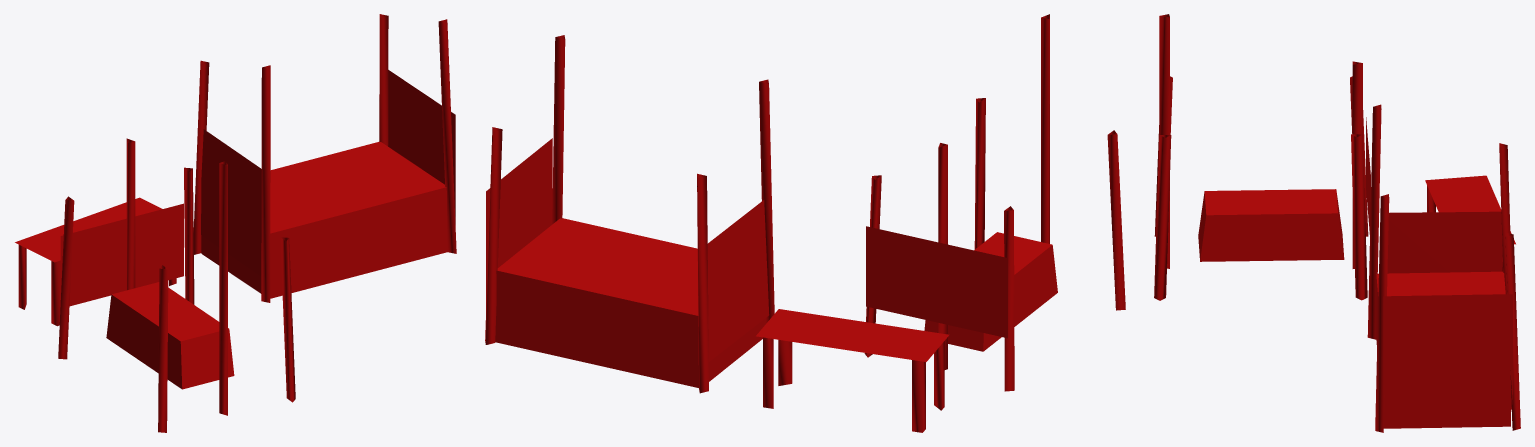
Rendered from n_marketstand02_lod0.glb.
3 views of the same model, side by side, from view 1: azimuth 30°, elevation 25°; view 2: azimuth 150°, elevation 25°; view 3: azimuth 270°, elevation 25° (orthographic). The views are drawn at different scales.
Parts seen in each view (by area): view 1: MODEL_n_marketstand02_lod0; view 2: MODEL_n_marketstand02_lod0; view 3: MODEL_n_marketstand02_lod0.
Boxes of the visible parts, bbox=[...] form: MODEL_n_marketstand02_lod0: bbox=[15, 14, 456, 432]; MODEL_n_marketstand02_lod0: bbox=[485, 14, 1125, 432]; MODEL_n_marketstand02_lod0: bbox=[1154, 14, 1520, 432].
Size of the model in its own units: 1.78 by 1.04 by 1.38.
